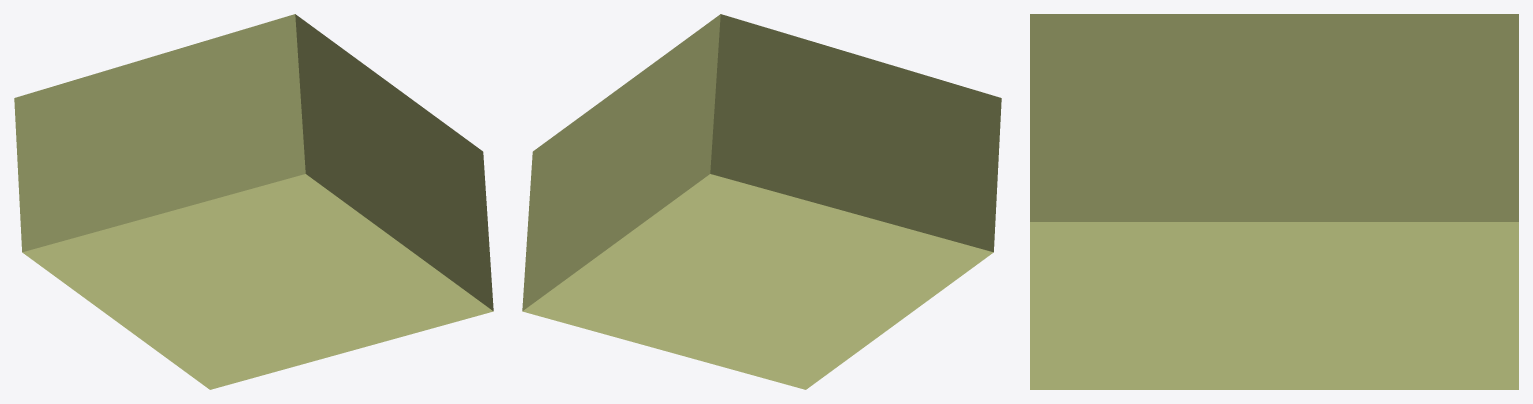
3 renders of one model, left to right at view 1: azimuth 30°, elevation 25°; view 2: azimuth 150°, elevation 25°; view 3: azimuth 270°, elevation 25°, orthographic. The views are drawn at different scales.
Visible parts, largest first — view 1: 0_1_1_3_3_0_3_0_3_1; view 2: 0_1_1_3_3_0_3_0_3_1; view 3: 0_1_1_3_3_0_3_0_3_1.
Boxes of the visible parts, box(x1,y1,x2,y2) form: 0_1_1_3_3_0_3_0_3_1: box(14, 14, 493, 389); 0_1_1_3_3_0_3_0_3_1: box(522, 14, 1001, 389); 0_1_1_3_3_0_3_0_3_1: box(1030, 14, 1518, 389).
Size of the model in its own units: 8.06 by 4.54 by 9.
